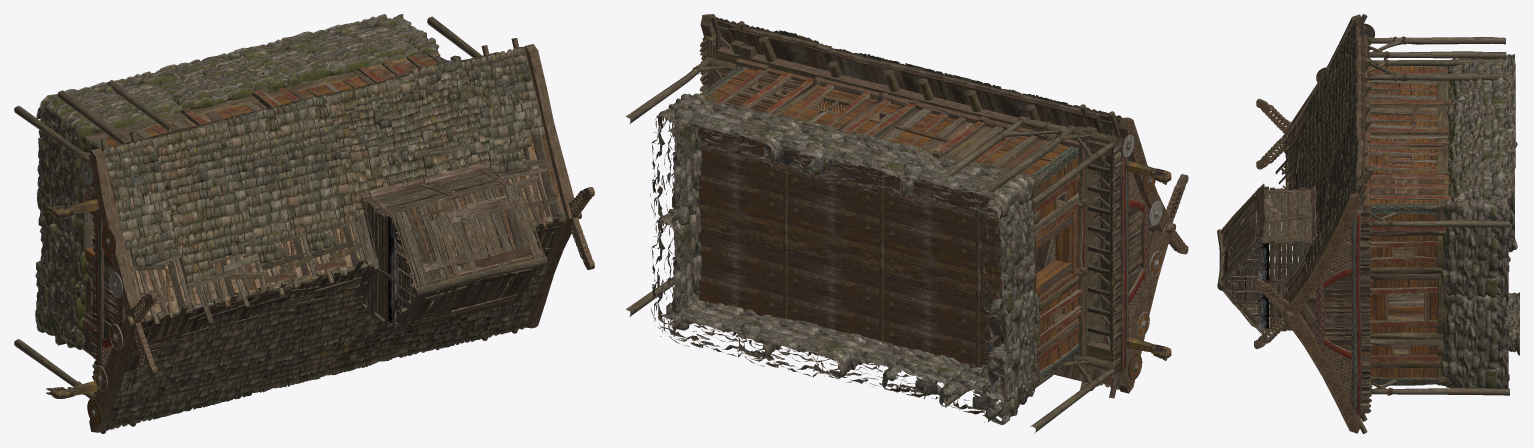
Rendered from VIK_VIL_House_02A_G_001_Roof-transformed.glb.
3 renders of one model, left to right at view 1: azimuth 30°, elevation 25°; view 2: azimuth 150°, elevation 25°; view 3: azimuth 270°, elevation 25°, orthographic. The views are drawn at different scales.
Visible parts, largest first — view 1: VIK_VIL_House_02A_G_001_Roof; view 2: VIK_VIL_House_02A_G_001_Roof; view 3: VIK_VIL_House_02A_G_001_Roof.
Part boxes in pixels (x1,y1,x2,y2): VIK_VIL_House_02A_G_001_Roof: [14, 14, 594, 433]; VIK_VIL_House_02A_G_001_Roof: [626, 14, 1188, 433]; VIK_VIL_House_02A_G_001_Roof: [1217, 14, 1519, 433].
Size of the model in its own units: 0.1968 by 0.1139 by 0.1253.
Materials: 21 (21 with a texture image).
